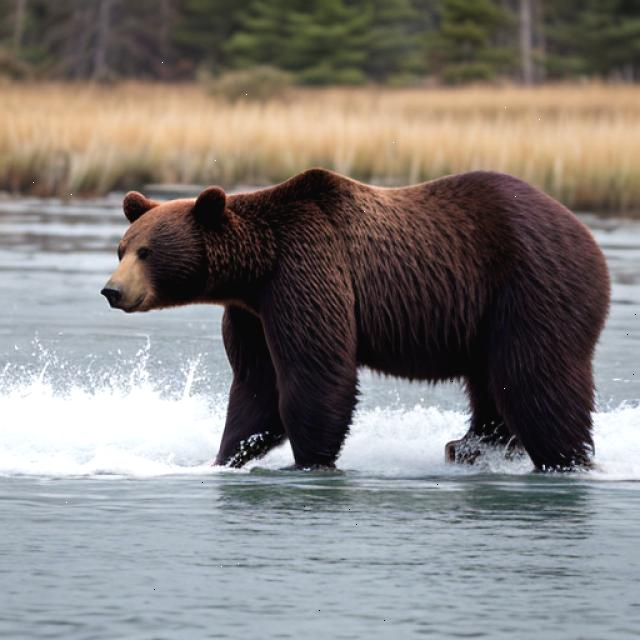bear: (80, 167, 638, 514)
